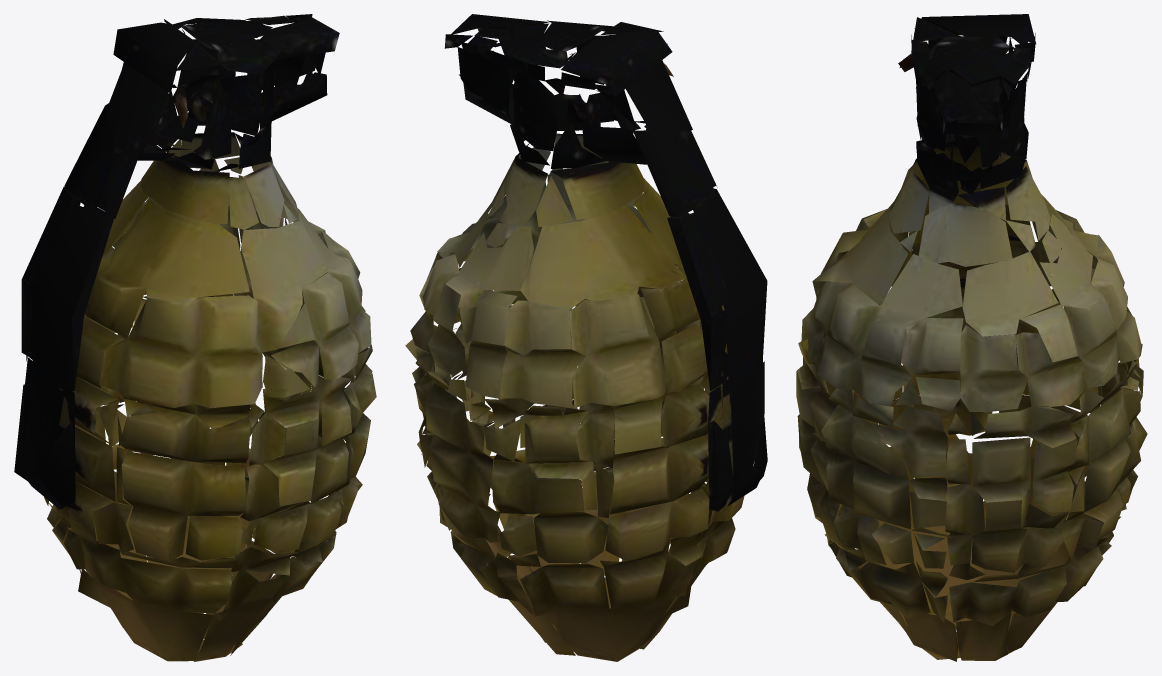
The model's file is satoshi-frag.glb.
3 views of the same model, side by side, from view 1: azimuth 30°, elevation 25°; view 2: azimuth 150°, elevation 25°; view 3: azimuth 270°, elevation 25° (orthographic).
Visible parts, largest first — view 1: HMH Weapon | satoshi-frag; view 2: HMH Weapon | satoshi-frag; view 3: HMH Weapon | satoshi-frag.
Boxes of the visible parts, <box> form: HMH Weapon | satoshi-frag: <box>14,14,376,661</box>; HMH Weapon | satoshi-frag: <box>405,14,767,661</box>; HMH Weapon | satoshi-frag: <box>796,14,1147,661</box>.
Size of the model in its own units: 0.0703 by 0.1298 by 0.0679.
1 material, 1 textured.
